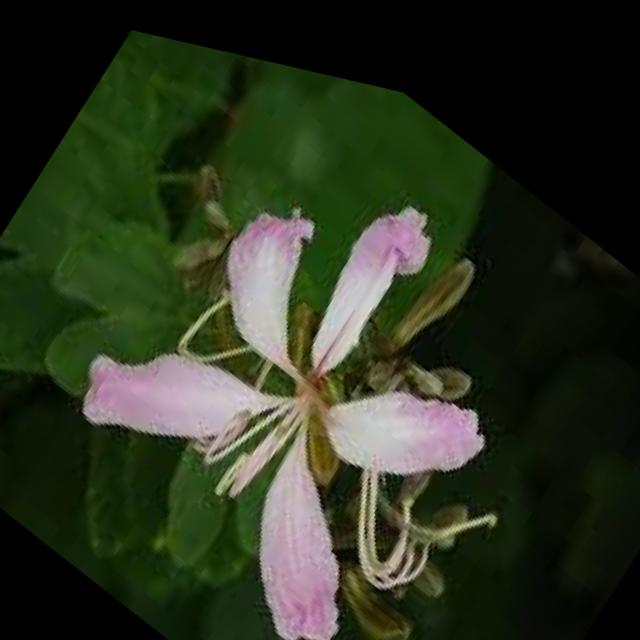Flower: (31, 30, 568, 640)
